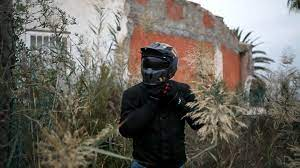helmets: (137, 40, 180, 90)
